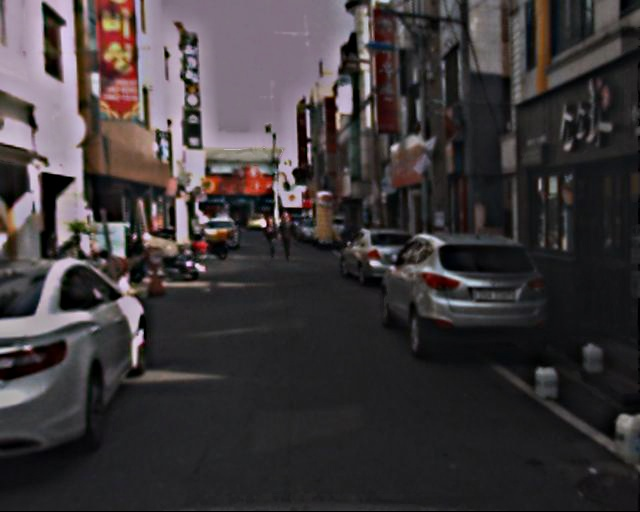person: (337, 215, 358, 271), (279, 213, 300, 266), (262, 216, 282, 263)
